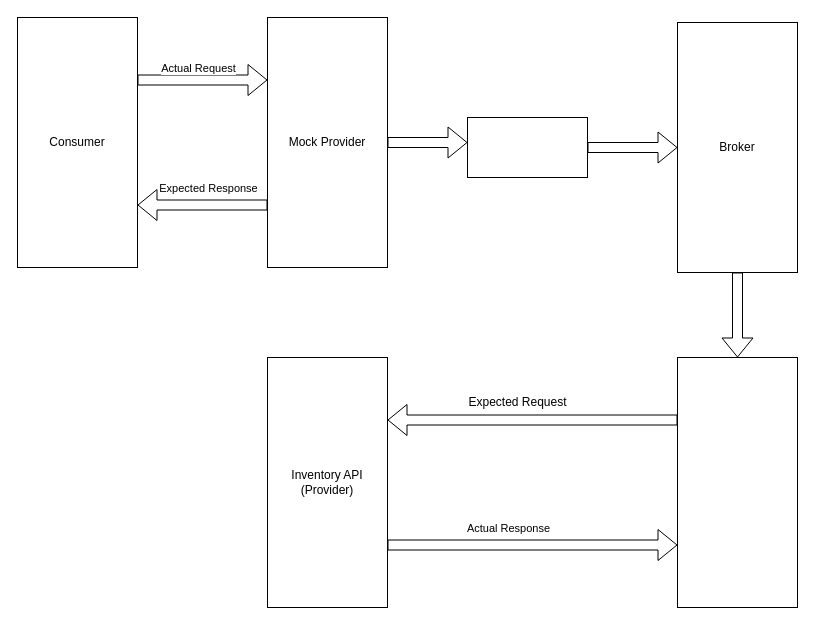
Some shapes in this 815 by 625 pixel diagram are drawn without their labels. The shapes that lost their labels are listed below. From the top down, each one's centre as x and y in pixels, then its label:
the point at 527,147: Contract
the point at 737,482: Simulated Consumer
